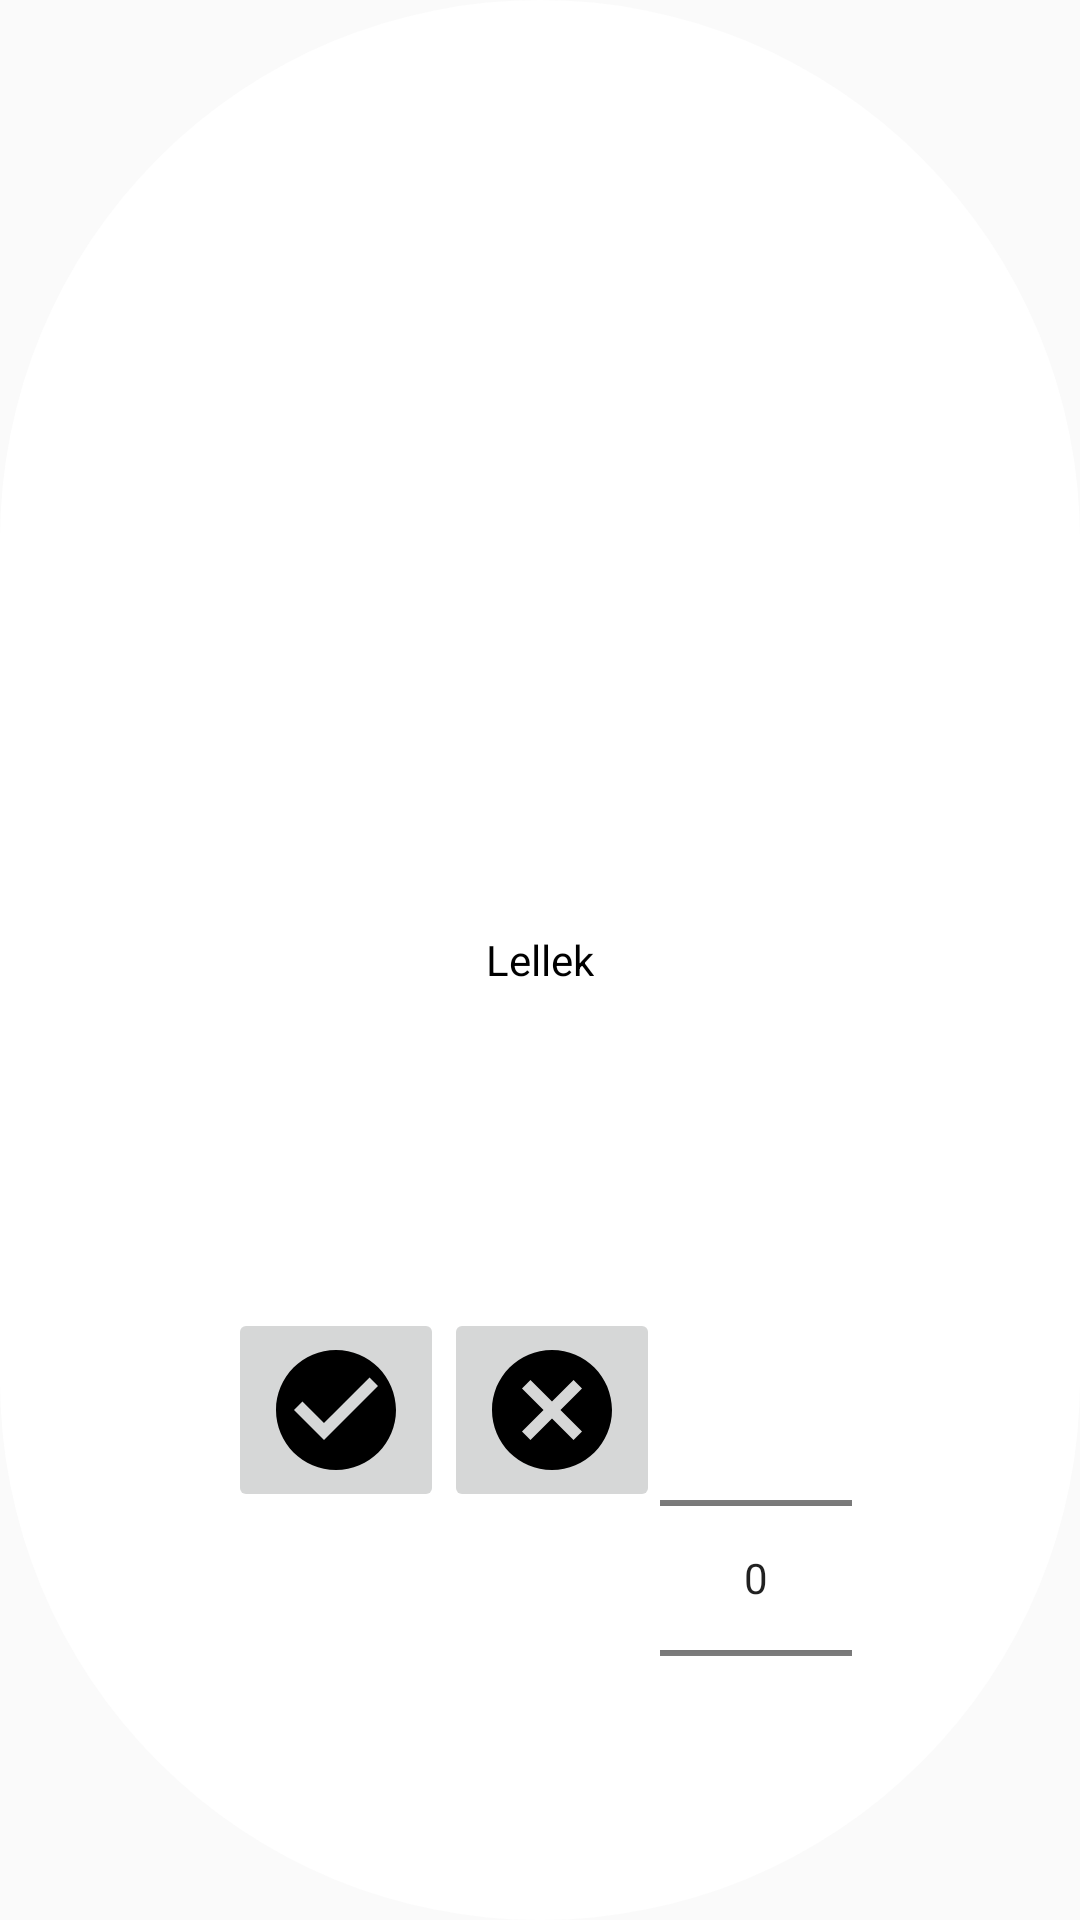

Locate icon controls on the screen. Image size 1080px×1920px, boxes as (x1, y1, x2, y2).
cancel: (456, 1326, 648, 1494)
check circle: (240, 1326, 432, 1494)
